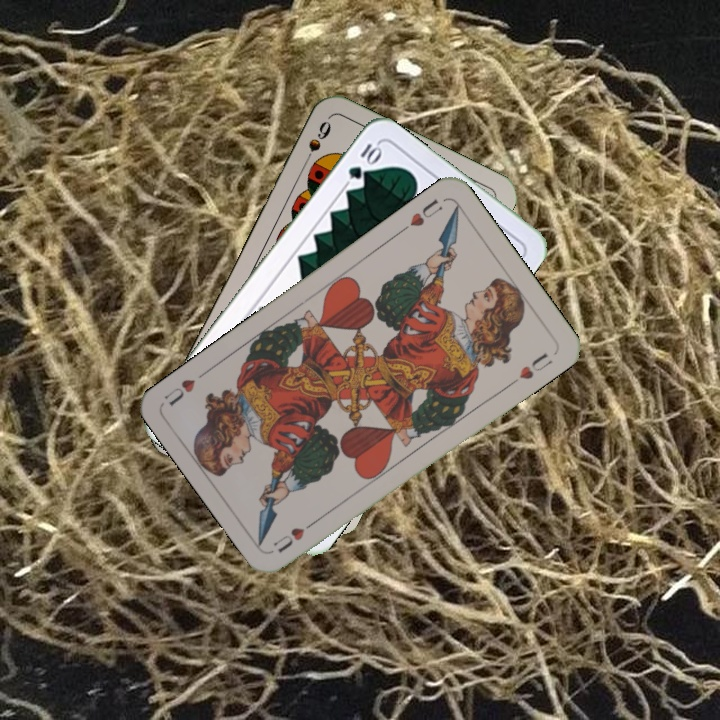G10: (344, 139, 384, 183)
HU: (269, 515, 321, 556), (396, 194, 446, 235)
S9: (298, 117, 334, 171)
